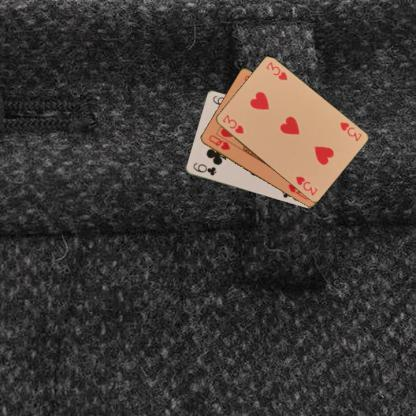3h: (337, 118, 363, 143), (220, 112, 245, 135)
6c: (190, 160, 218, 177)
Qh: (206, 132, 231, 152)
